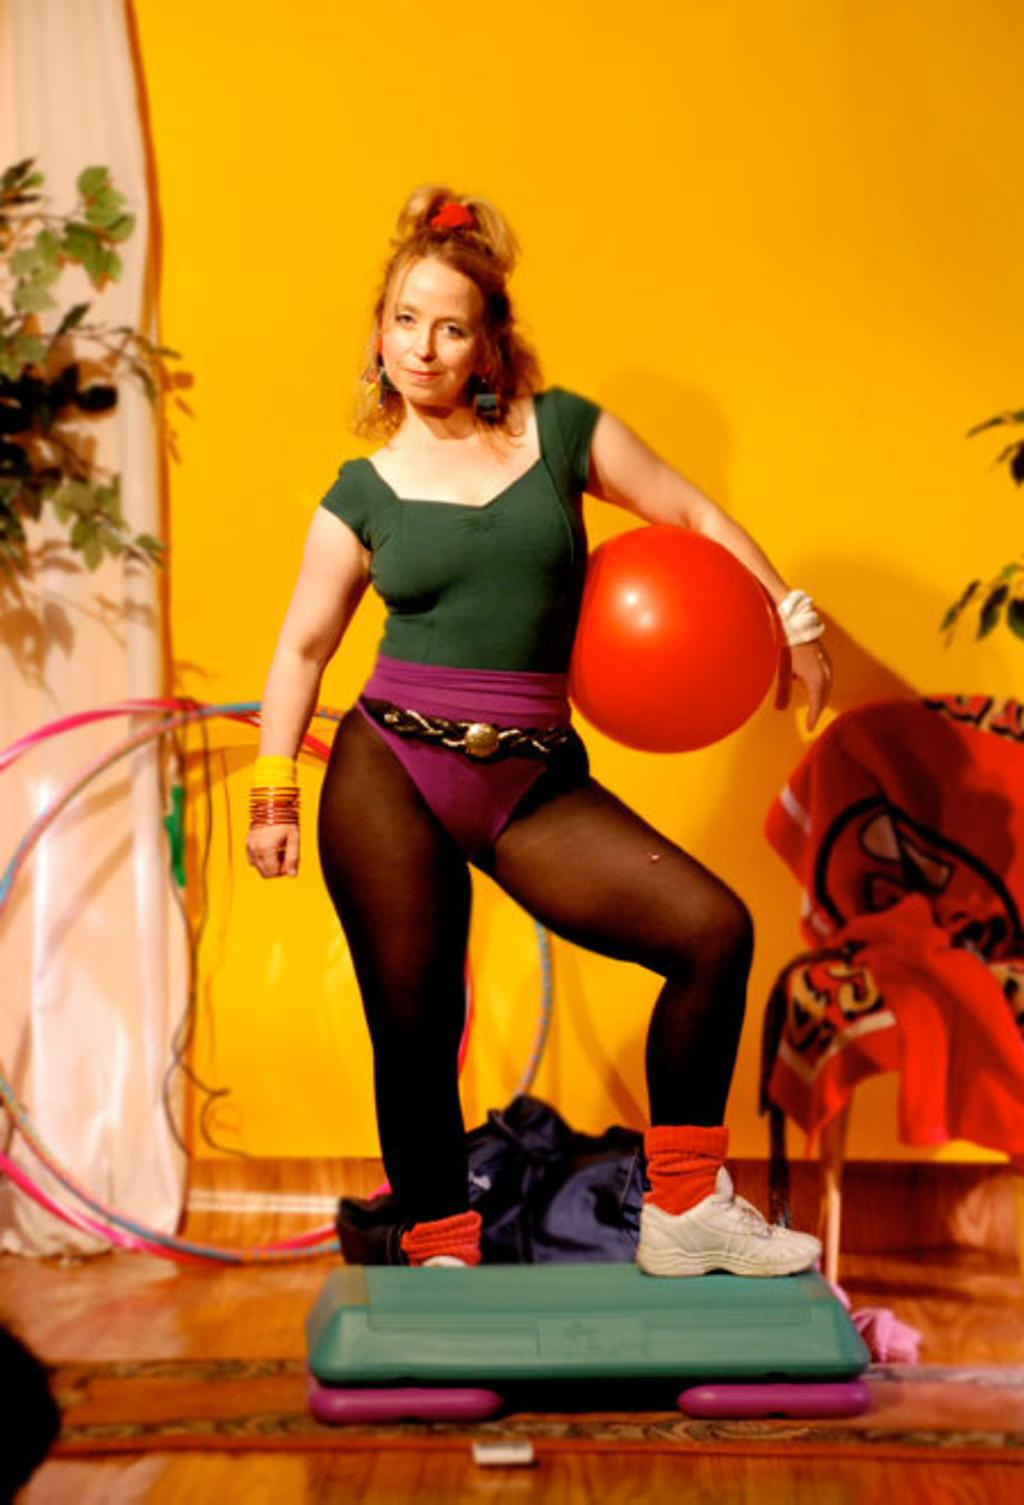face: (382, 227, 493, 403)
